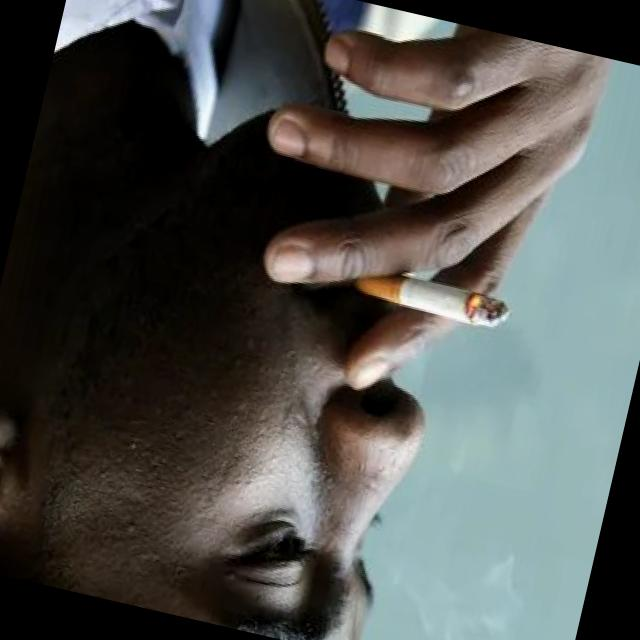smoke: (342, 254, 514, 334)
